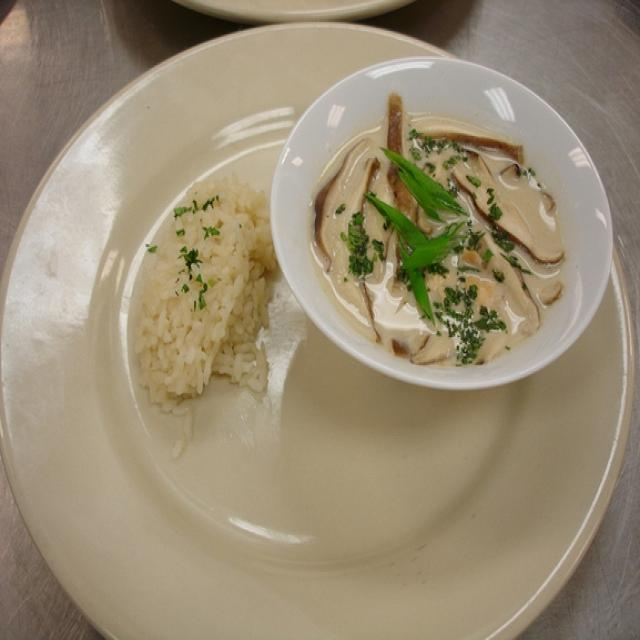汤锅炖物: (282, 61, 599, 376)
